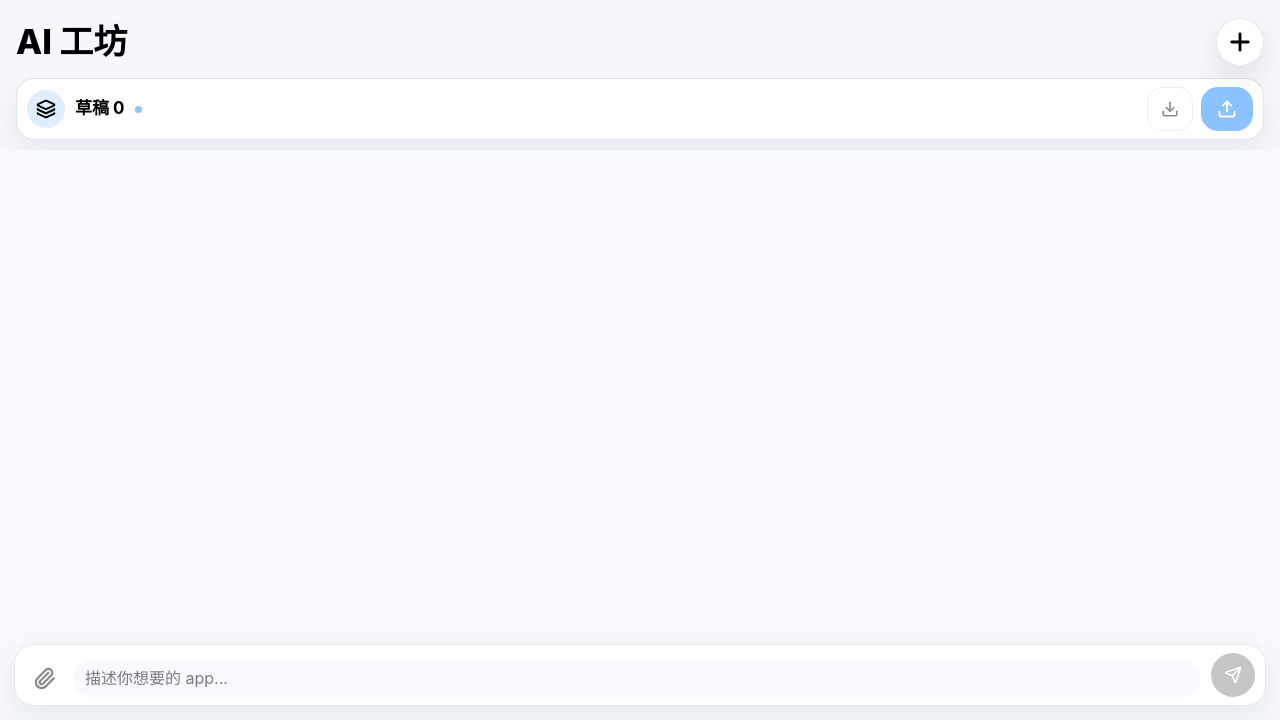
Test case: AIAppBuilderApp › stops an in-flight generation immediately from the chat abort button
Type "做一个番茄钟" into the text box with placeholder "描述你想要的 app..." at (637, 678), box [73, 659, 1201, 697]
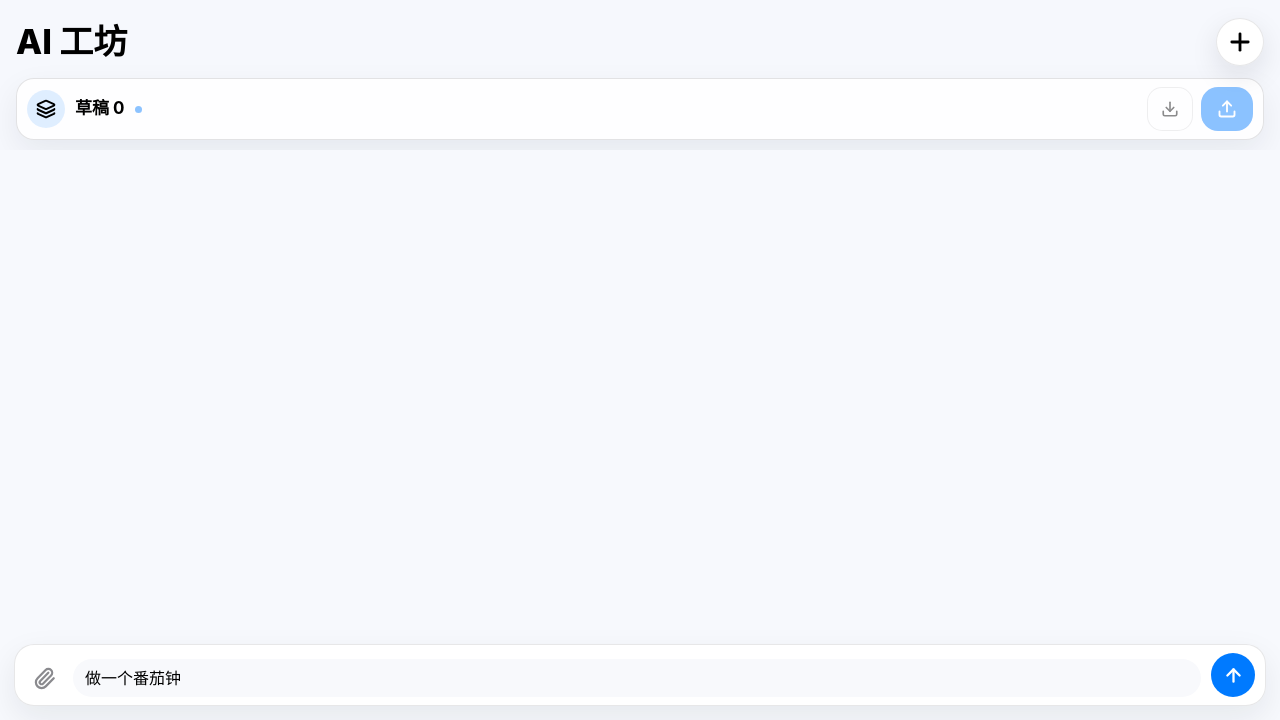
Click the button named "发送" at (1233, 675), box [1211, 653, 1255, 697]
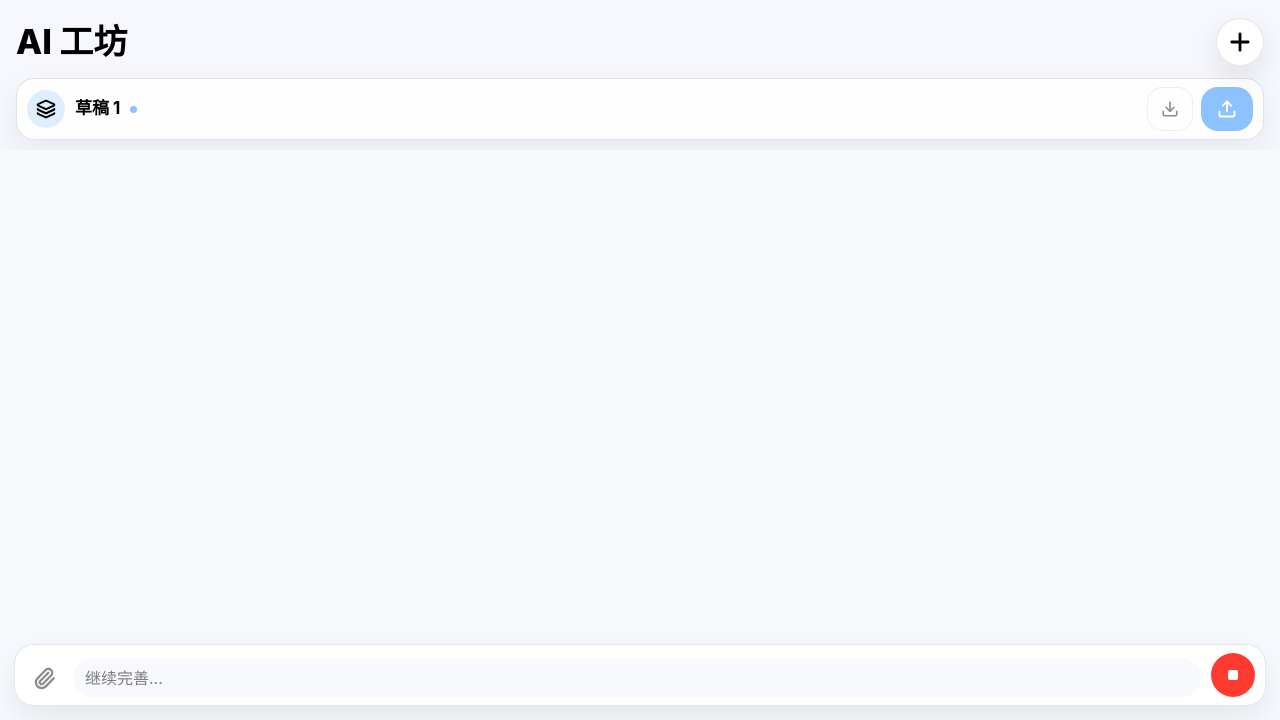
expect the button named "停止生成" is shown: met
Click the button named "停止生成" at (1233, 675), box [1211, 653, 1255, 697]
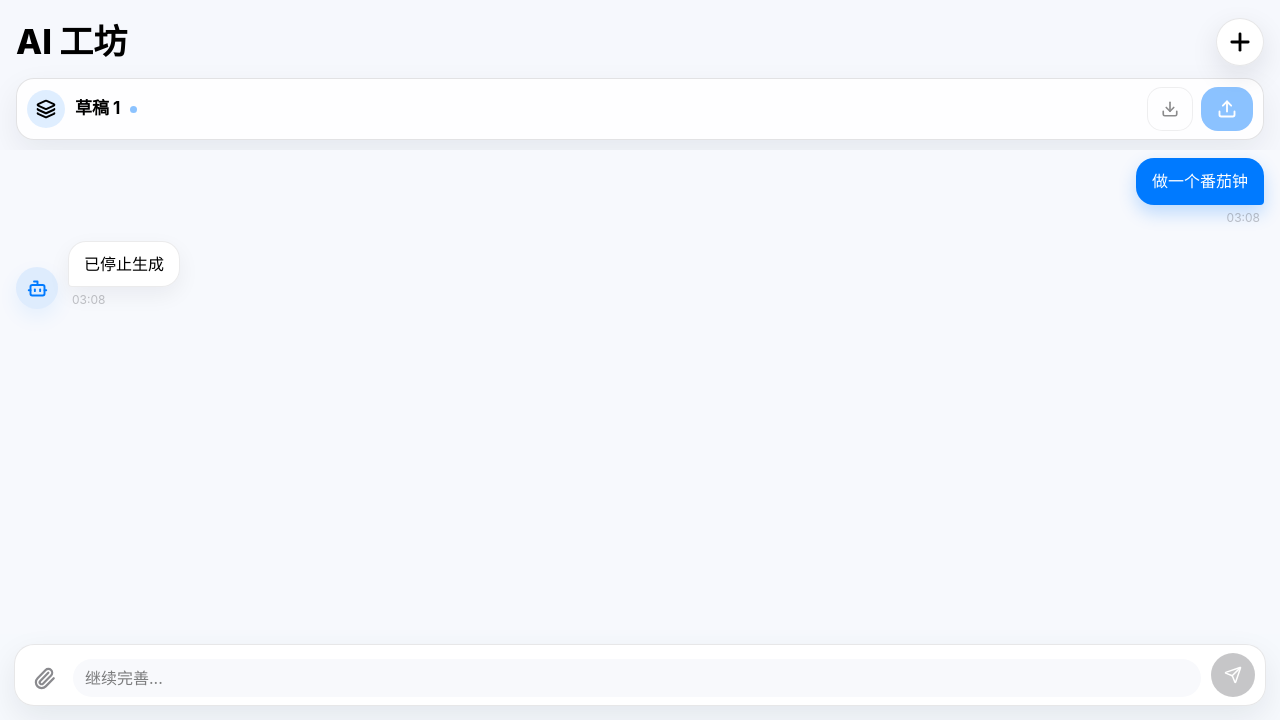
expect the text "已停止生成" is shown: met, box [68, 241, 180, 287]
